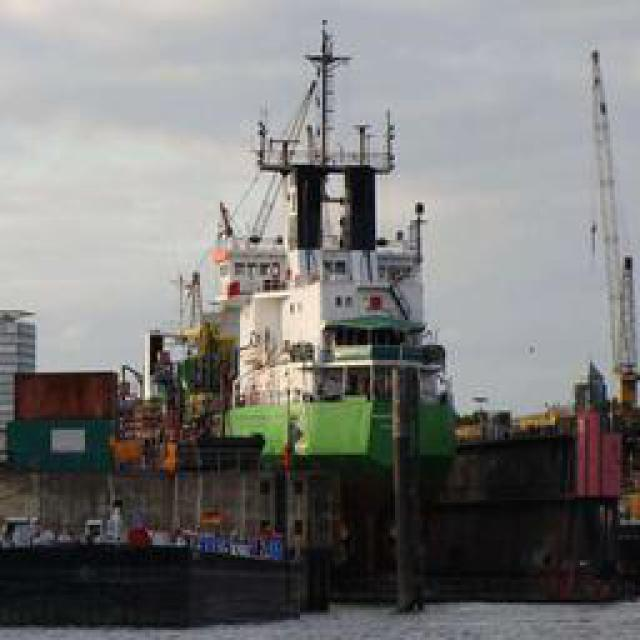Ship: (129, 17, 492, 587)
